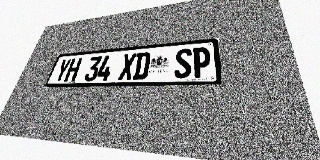3: (83, 56, 102, 81)
4: (95, 55, 115, 81)
D: (132, 52, 151, 80)
H: (63, 58, 83, 82)
P: (192, 47, 211, 78)
S: (174, 48, 192, 78)
X: (118, 53, 137, 80)
Y: (53, 59, 72, 82)
